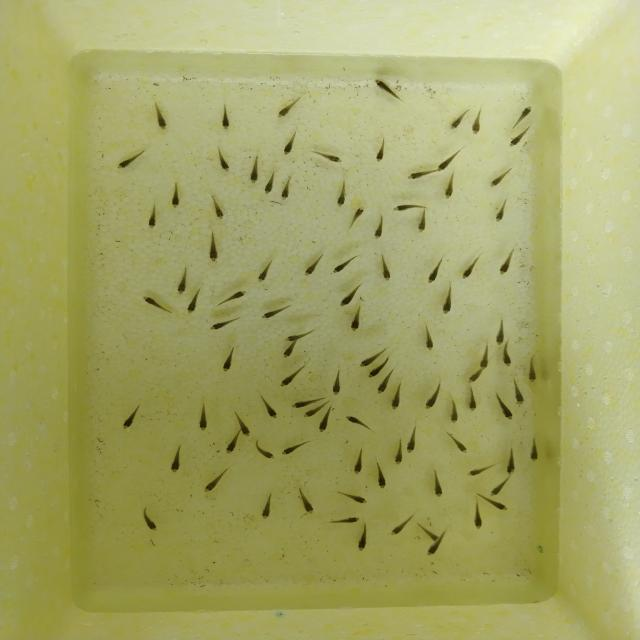fingerling: (369, 78, 404, 108), (427, 464, 454, 502), (277, 359, 306, 393), (133, 508, 170, 532), (294, 484, 320, 515), (118, 402, 145, 430), (115, 147, 145, 172), (148, 102, 172, 132), (271, 97, 305, 118), (443, 434, 475, 456), (337, 487, 374, 506), (258, 492, 282, 521), (201, 470, 231, 493), (386, 515, 416, 538), (328, 252, 357, 275), (220, 344, 242, 374), (436, 146, 461, 172), (334, 286, 363, 308), (214, 108, 238, 134), (352, 524, 376, 550), (296, 256, 324, 278), (501, 446, 521, 476), (168, 444, 188, 474), (442, 108, 468, 131), (257, 394, 280, 420), (477, 497, 512, 514), (245, 153, 263, 186), (259, 304, 292, 322), (483, 475, 510, 497), (494, 250, 515, 278), (251, 442, 279, 463), (372, 461, 392, 490), (346, 309, 367, 336), (260, 167, 278, 198), (344, 412, 375, 430), (253, 262, 276, 286), (508, 385, 532, 408), (504, 127, 530, 148), (458, 256, 479, 282), (281, 130, 300, 158), (182, 292, 205, 315), (514, 102, 536, 126), (426, 258, 446, 284), (324, 514, 361, 528), (376, 255, 395, 282), (523, 356, 542, 383), (204, 231, 220, 263), (138, 294, 166, 312), (424, 384, 444, 409), (354, 348, 380, 367), (317, 405, 332, 437), (280, 440, 312, 455), (463, 389, 482, 414), (214, 148, 232, 174), (405, 422, 418, 458), (175, 266, 191, 295), (488, 166, 509, 188), (235, 413, 254, 437), (442, 287, 457, 317), (328, 366, 343, 396), (222, 290, 250, 306), (441, 174, 457, 201), (352, 448, 368, 475), (466, 506, 484, 530), (145, 202, 160, 230), (168, 178, 182, 208), (526, 437, 540, 467), (349, 204, 368, 226), (283, 328, 315, 341), (492, 198, 509, 222), (292, 393, 316, 410), (470, 107, 484, 136), (492, 315, 506, 344), (210, 193, 225, 220), (421, 325, 437, 350), (498, 401, 518, 421), (205, 320, 238, 332), (372, 212, 386, 240), (278, 176, 292, 204), (499, 346, 516, 369), (428, 530, 444, 554), (375, 376, 395, 395), (417, 520, 436, 540), (405, 168, 432, 182), (303, 401, 324, 419), (197, 405, 210, 434), (316, 151, 344, 164), (464, 465, 494, 477), (373, 140, 389, 162), (224, 435, 240, 457), (448, 393, 458, 428), (336, 179, 348, 208), (365, 363, 389, 377), (477, 346, 490, 371), (393, 440, 404, 469), (390, 203, 429, 211), (282, 340, 297, 360), (391, 386, 404, 409), (415, 210, 428, 232), (468, 371, 482, 386)
